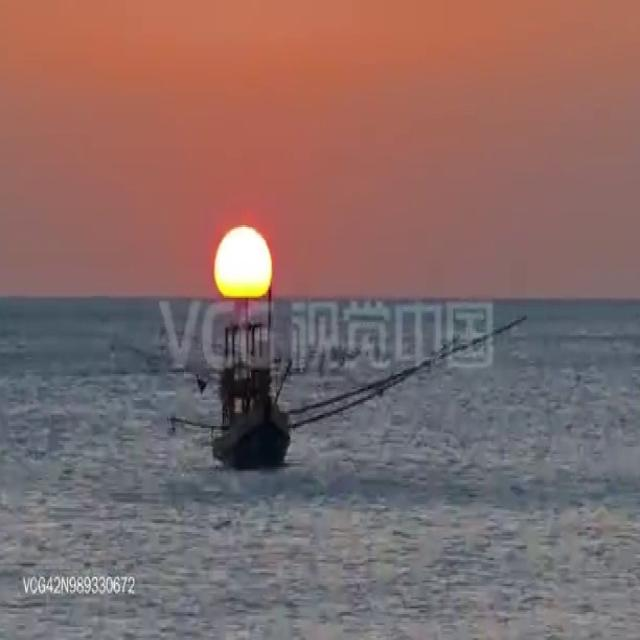houseboat: (212, 291, 290, 461)
